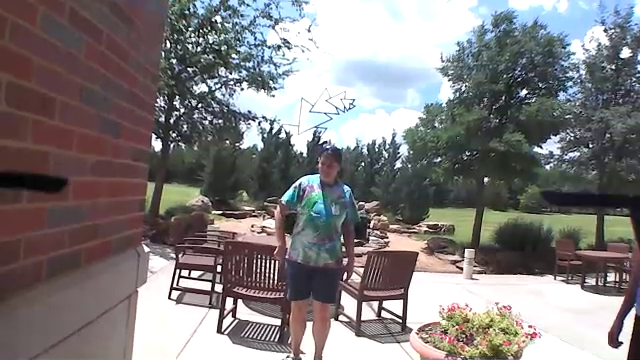down: (268, 240, 287, 270)
